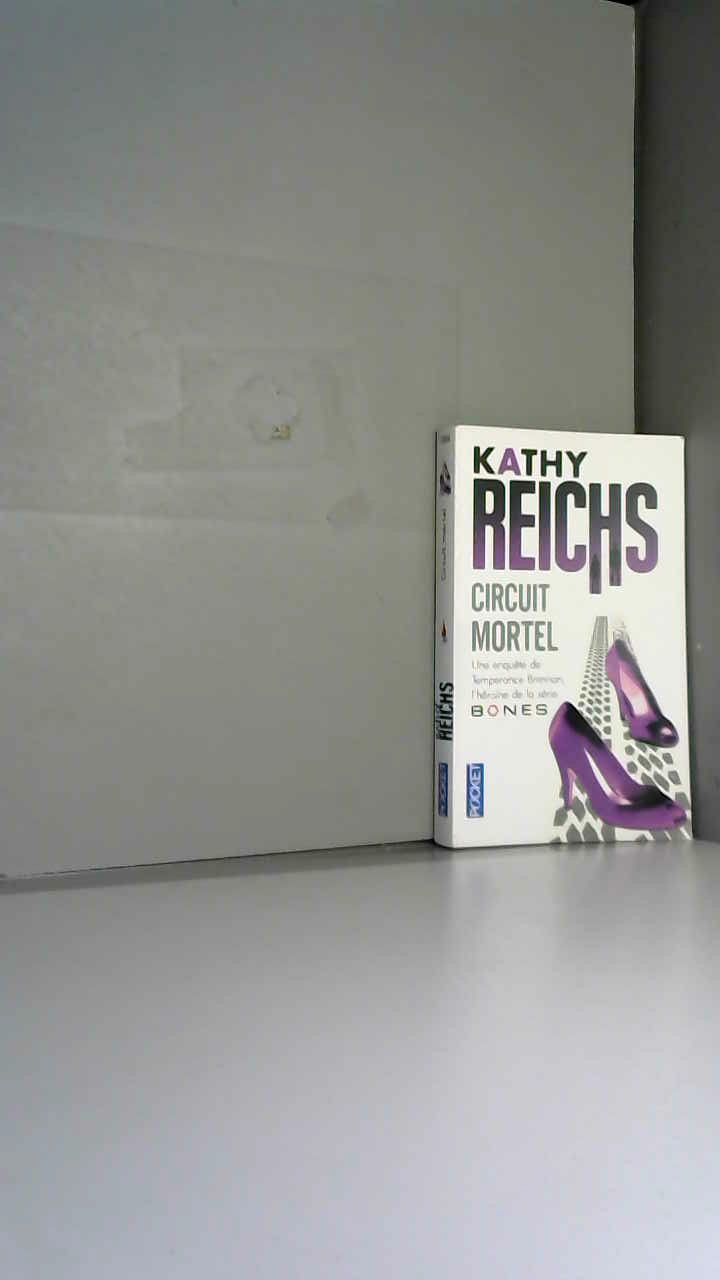book: (430, 400, 720, 887)
